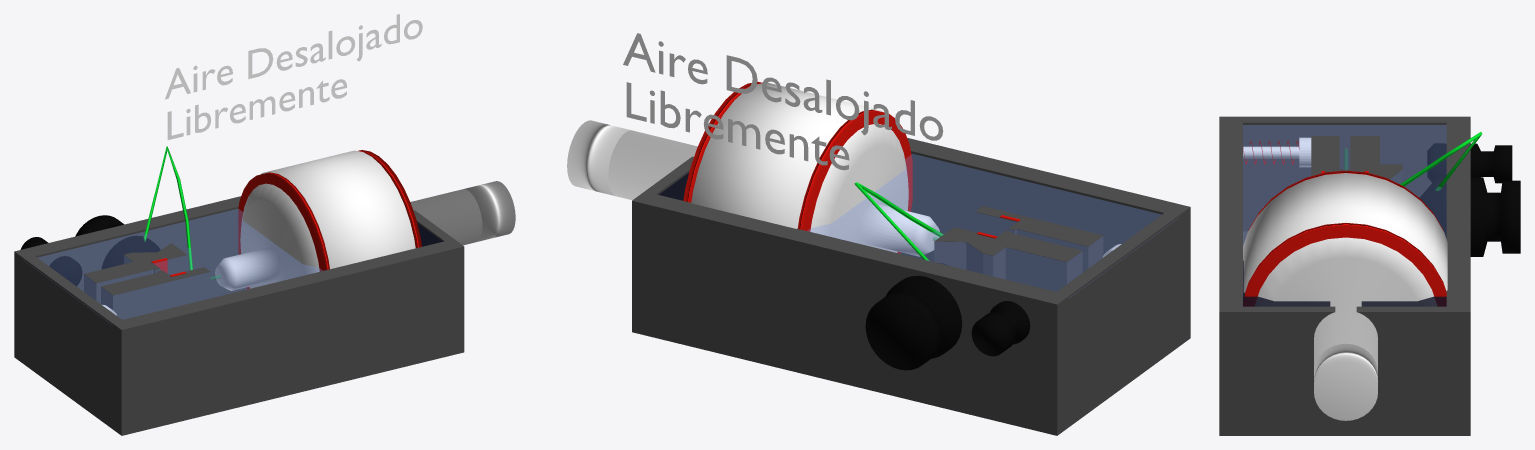
File: Actuadores neumáticos.glb
The picture shows the model from 3 angles, left to right: view 1: azimuth 30°, elevation 25°; view 2: azimuth 150°, elevation 25°; view 3: azimuth 270°, elevation 25°; orthographic projection. The views are drawn at different scales.
Visible parts, largest first — view 1: Cube, Cylinder.004, Plane.001, Plane, Texa, Cylinder.003, Cylinder.001, Cylinder, NurbsPath.001; view 2: Cube, Cylinder.004, Plane.001, Plane, Cylinder.001, Texa.001, Cylinder.003, Cylinder, NurbsPath.001; view 3: Cube, Cylinder.004, Plane.001, Cylinder.001, Cylinder.003, Plane, Cylinder, Plane.002, Cylinder.002, NurbsPath.001.
Part boxes in pixels (x1,y1,x2,y2): Cube: (14,196,464,435); Cylinder.004: (215,150,482,290); Plane.001: (38,209,322,319); Plane: (84,243,210,319); Texa: (165,14,422,139); Cylinder.003: (464,181,515,241); Cylinder.001: (75,215,160,269); Cylinder: (20,237,82,286); NurbsPath.001: (143,146,192,270); Cube: (632,138,1190,435); Cylinder.004: (608,81,939,256); Plane.001: (808,154,1172,294); Plane: (934,206,1103,291); Cylinder.001: (865,263,962,370); Texa.001: (623,33,943,170); Cylinder.003: (567,120,630,195); Cylinder: (971,301,1030,356); NurbsPath.001: (854,182,943,260); Cube: (1219,116,1470,435); Cylinder.004: (1243,170,1447,369); Plane.001: (1243,125,1446,245); Cylinder.001: (1420,177,1520,256); Cylinder.003: (1314,343,1377,420); Plane: (1311,136,1402,184); Cylinder: (1427,143,1512,183); Plane.002: (1243,260,1446,306); Cylinder.002: (1243,137,1311,167); NurbsPath.001: (1400,132,1482,190).
Size of the model in its own units: 10.99 by 5.97 by 5.64.
